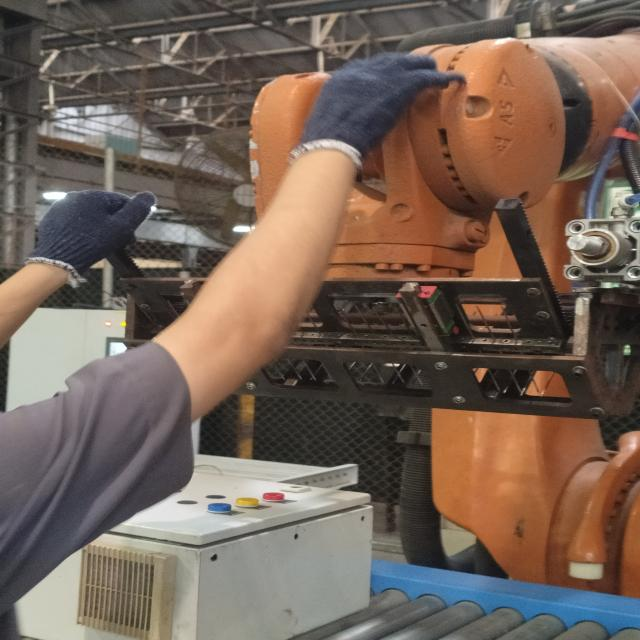Gloves-Detection: (318, 46, 438, 164), (37, 185, 139, 268)
